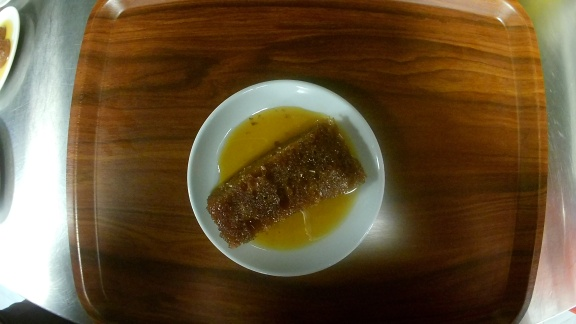ekmekkadayifi: (187, 79, 385, 278)
